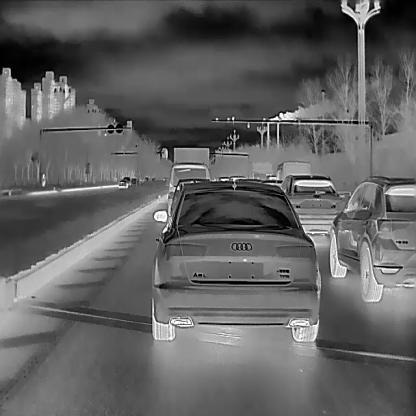car: (150, 180, 321, 341), (329, 175, 416, 302), (280, 174, 342, 234), (166, 162, 211, 215), (276, 158, 310, 192), (249, 160, 275, 188), (119, 179, 128, 189)
